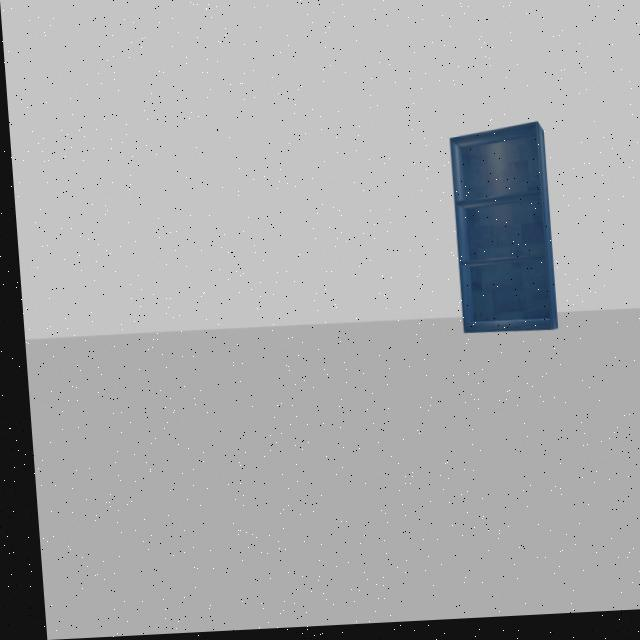shelf: (425, 118, 570, 355)
